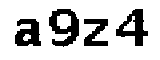4: (113, 6, 151, 51)
9: (45, 4, 81, 49)
a: (11, 18, 44, 53)
z: (82, 17, 110, 49)
